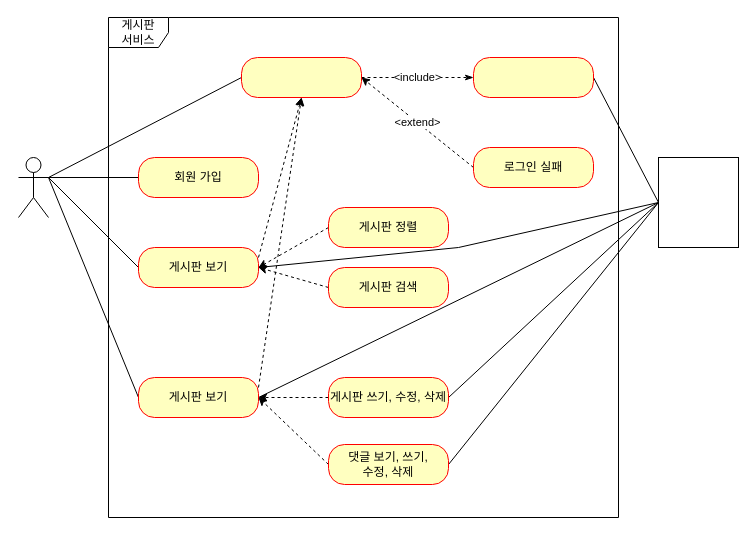
Some shapes in this 756 by 535 pixel diagram are drawn without their labels. The centre of each missing label's shape, as x and y in pixels:
DB: (x=698, y=202)
이용자: (x=33, y=187)
인증: (x=533, y=77)
회원 로그인: (x=301, y=77)
